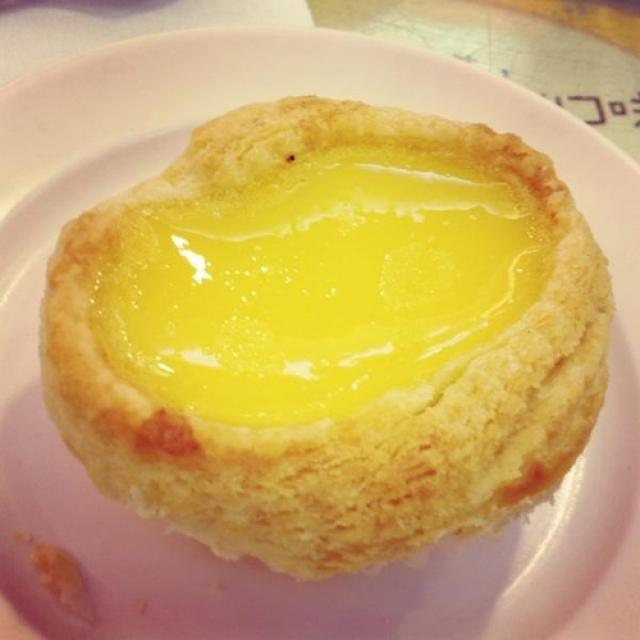炸货点心: (9, 34, 598, 620)
蛋糕甜品: (9, 34, 598, 620)
